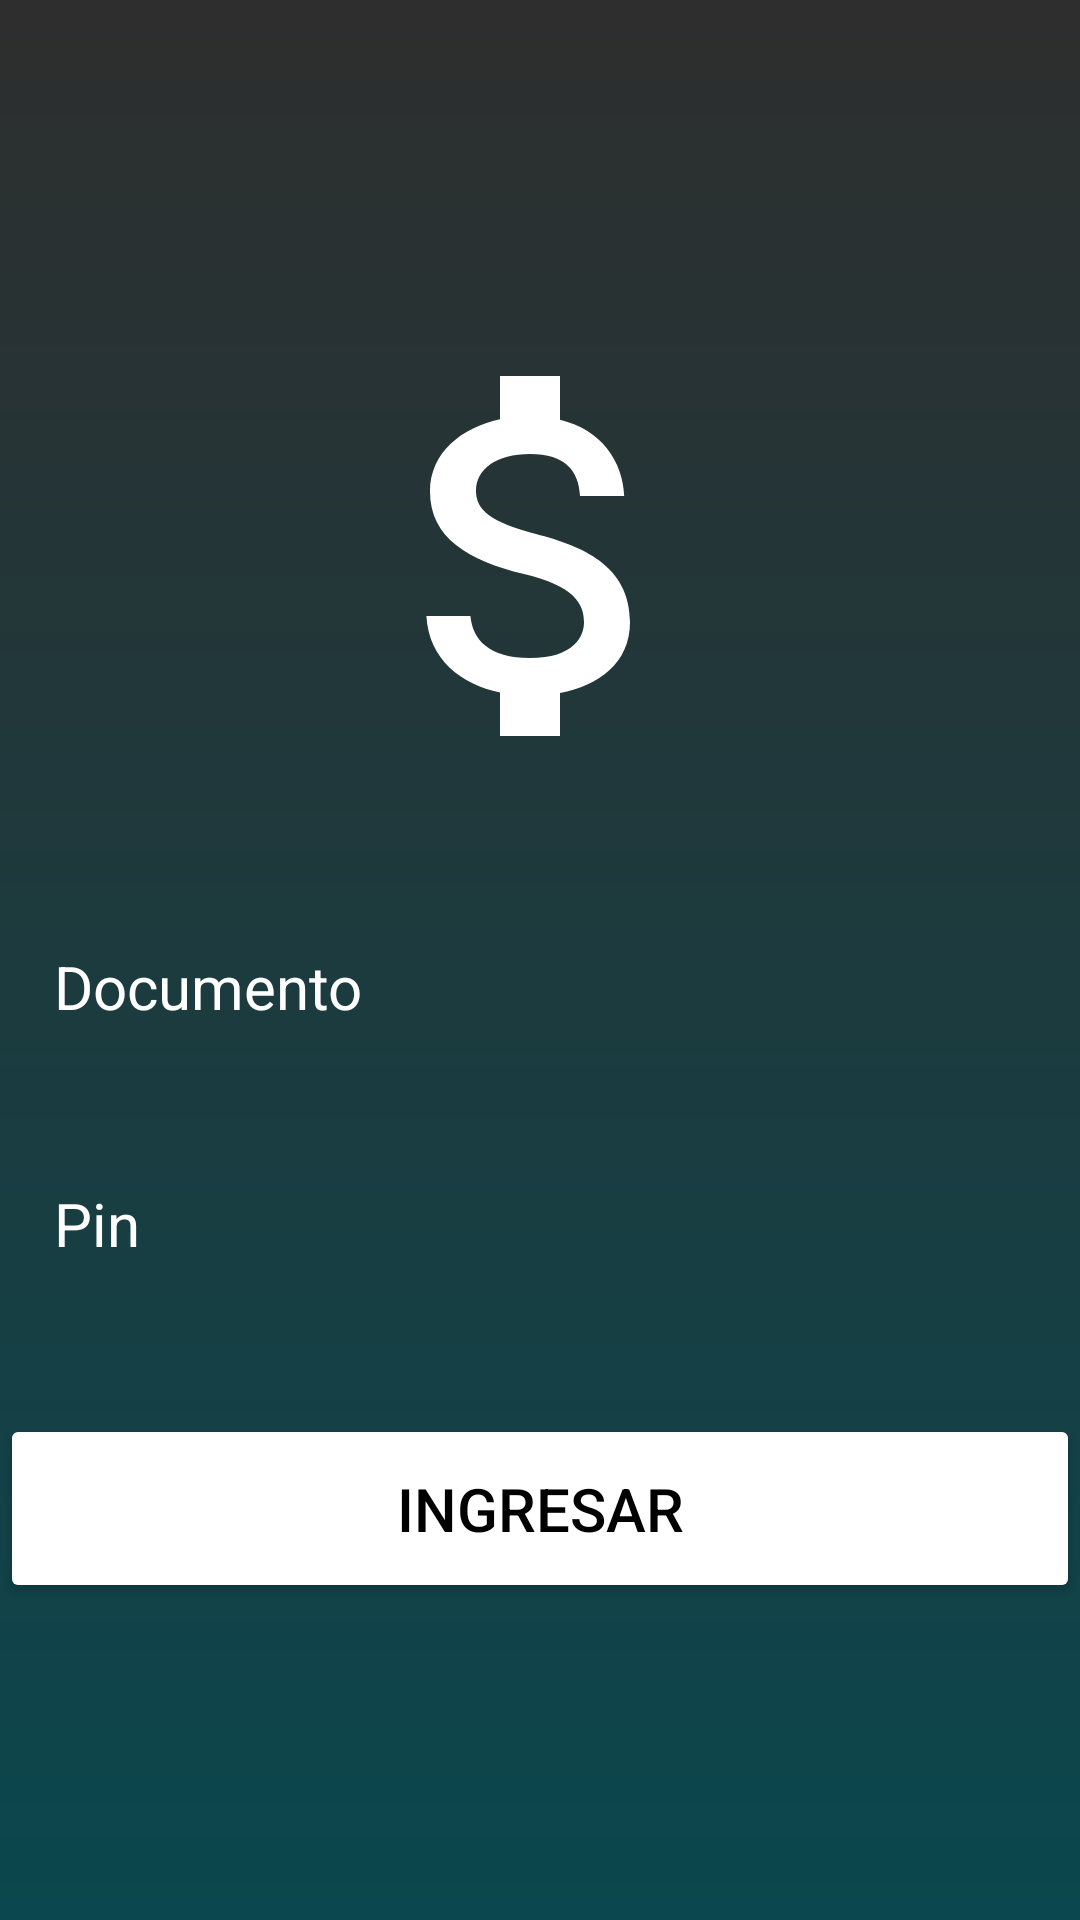

Point at icon controls on the screen. Image size 1080x1920, points as [x,y].
money: [528,556]
